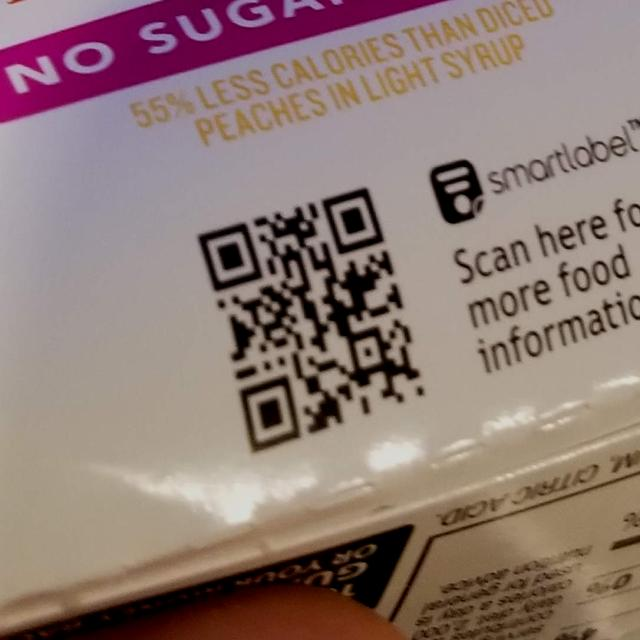QRCode: (185, 173, 440, 465)
